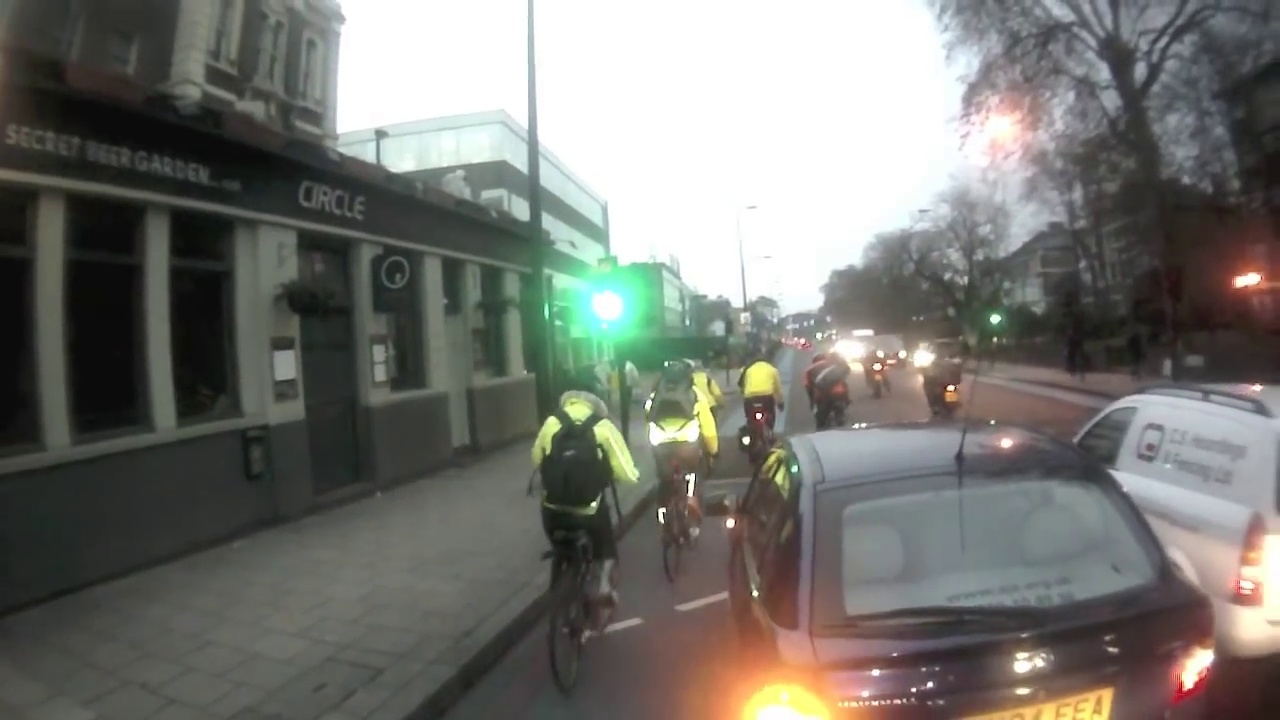cyclist_back: (527, 371, 629, 691), (646, 345, 709, 589), (737, 349, 778, 487), (806, 348, 855, 448)
